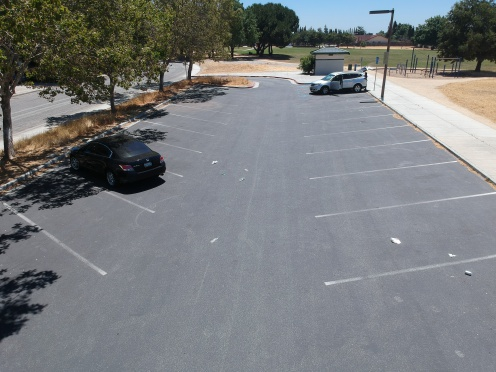bottle: (236, 174, 248, 184)
can: (462, 268, 475, 277)
plastic bag: (388, 234, 405, 249)
